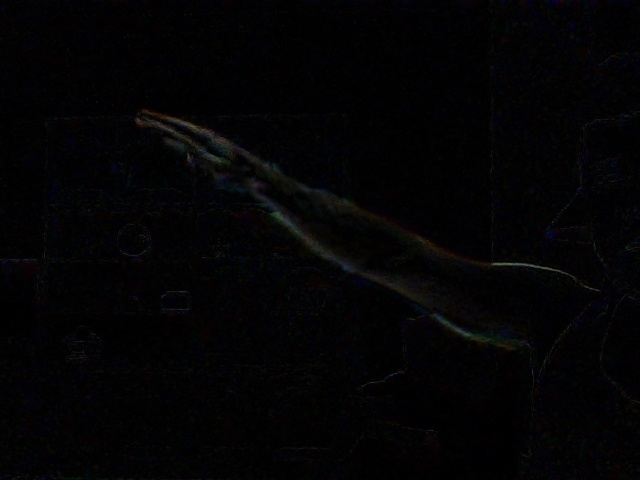hand_pa: (127, 98, 262, 192)
